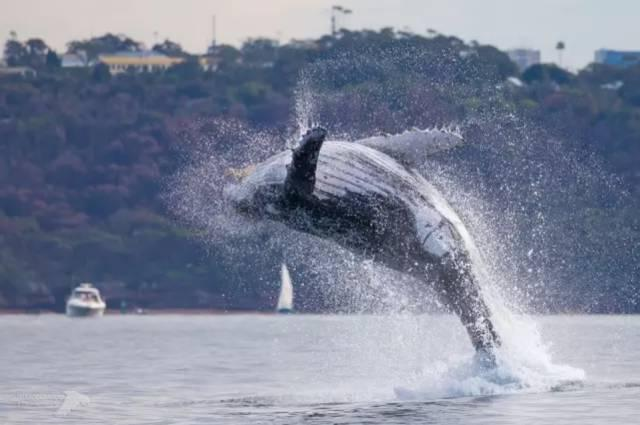fish: (217, 123, 583, 395)
